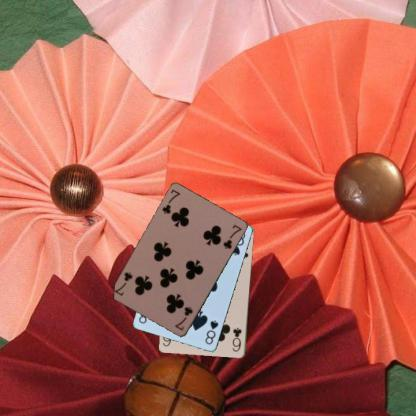6c: (230, 325, 243, 353)
7c: (160, 187, 182, 216), (172, 304, 194, 332)
8s: (202, 318, 219, 346)
